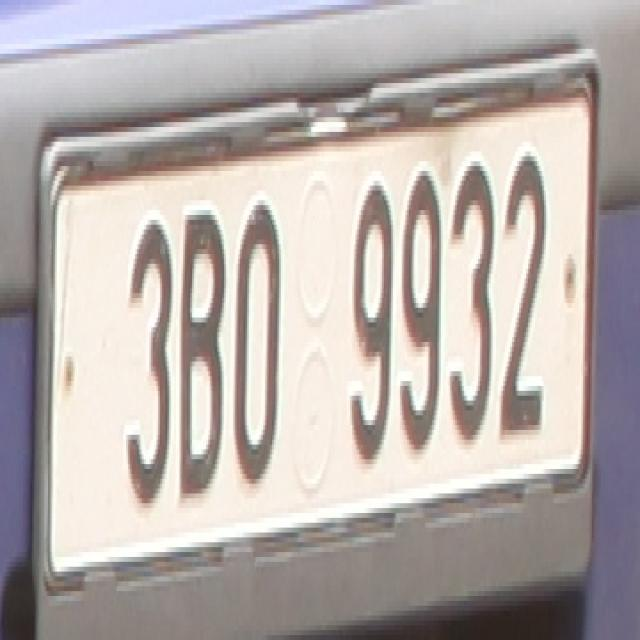0: (231, 205, 285, 489)
2: (500, 151, 548, 425)
3: (124, 215, 170, 503), (448, 161, 489, 440)
9: (348, 186, 394, 464), (396, 176, 441, 444)
B: (176, 201, 222, 494)
